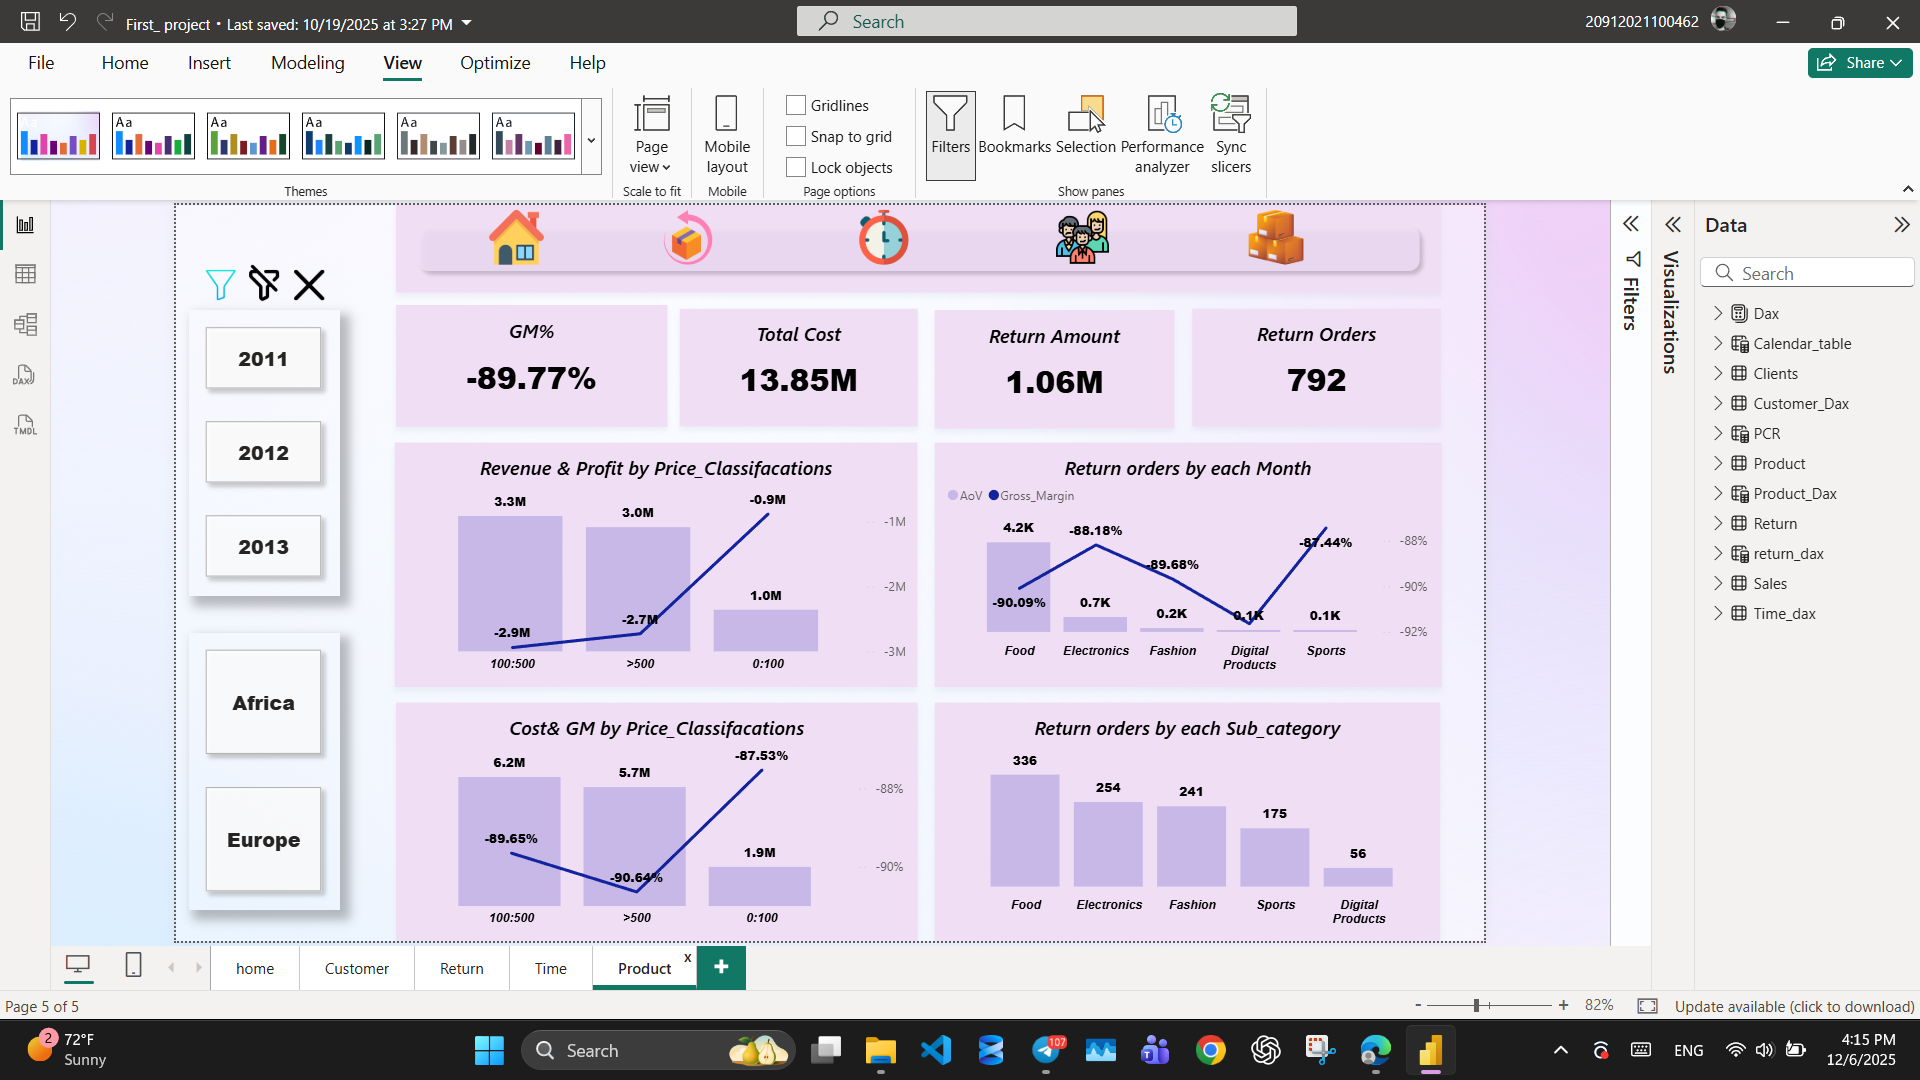

This screenshot's page, from the dashboard's own definition file:
{"tool":"powerbi","page":{"name":"Product","canvas":[1280,720],"ordinal":4},"visuals":[{"type":"shape","box":[215.2,0,1022.3,85.6],"z":2000},{"type":"image","title":"Clear Filter","box":[58.7,53.8,55,48.9],"z":2500},{"type":"image","title":"Cancel","box":[100.3,58.7,59.9,39.1],"z":3000},{"type":"image","title":"Filter","box":[12.2,58.7,63.6,39.1],"z":5000},{"type":"image","box":[275.6,0,116.7,63.3],"z":6000},{"type":"image","box":[814.4,0,145.5,63.6],"z":7000},{"type":"image","box":[624.4,0,135.3,63.3],"z":8000},{"type":"image","box":[439,0,124.7,63.6],"z":9000},{"type":"image","box":[1015.4,0,122.9,63.3],"z":10000},{"type":"card","title":"GM%","fields":{"Values":["Dax.Gross_Margin"]},"box":[215.8,98.1,265.5,119],"z":11000},{"type":"card","title":"Total Cost","fields":{"Values":["Dax.total_cost"]},"box":[493,102,232.8,115.1],"z":12000},{"type":"card","title":"Return Amount","fields":{"Values":["return_dax.return_amout"]},"box":[742.8,103.3,234.1,116.4],"z":13000},{"type":"card","title":"Return Orders","fields":{"Values":["return_dax.return_orders"]},"box":[994.2,101.5,243.3,114.9],"z":14000},{"type":"clusteredColumnChart","title":"Return orders by each Sub_category","fields":{"Category":["Product.CategoryName"],"Y":["return_dax.return_orders"]},"box":[742.8,486.5,494.3,234.1],"z":15000},{"type":"lineClusteredColumnComboChart","title":"Return orders by each Month","fields":{"Category":["Product.CategoryName"],"Y":["Customer_Dax.AoV"],"Y2":["Dax.Gross_Margin"]},"box":[742.8,232.8,495.6,239.3],"z":16000},{"type":"lineClusteredColumnComboChart","title":"Revenue & Profit by Price_Classifacations","fields":{"Category":["Sales.Price_Classifacations"],"Y":["Dax.total _revenue"],"Y2":["Dax.total_profit"]},"box":[214.5,232.8,511.3,239.3],"z":17000},{"type":"lineClusteredColumnComboChart","title":"Cost& GM by Price_Classifacations","fields":{"Category":["Sales.Price_Classifacations"],"Y":["Dax.total_cost"],"Y2":["Dax.Gross_Margin"]},"box":[215.8,486.5,510,234.1],"z":18000},{"type":"advancedSlicerVisual","fields":{"Values":["Clients.Continent"]},"box":[12.2,418.2,148,271.5],"z":22500},{"type":"advancedSlicerVisual","fields":{"Values":["Calendar_table.year"]},"box":[12.2,102.7,148,280],"z":23000}]}

Visuals, with their boxes on the page's 1280x720 design canvas (x1, y1, x2, y2). These are canvas units, not pixel positions in the 1920x1080 screenshot, which may show the page scaled, cropped or inside an application window:
shape: {"left": 215, "top": 0, "right": 1238, "bottom": 86}
"Clear Filter" image: {"left": 59, "top": 54, "right": 114, "bottom": 103}
"Cancel" image: {"left": 100, "top": 59, "right": 160, "bottom": 98}
"Filter" image: {"left": 12, "top": 59, "right": 76, "bottom": 98}
image: {"left": 276, "top": 0, "right": 392, "bottom": 63}
image: {"left": 814, "top": 0, "right": 960, "bottom": 64}
image: {"left": 624, "top": 0, "right": 760, "bottom": 63}
image: {"left": 439, "top": 0, "right": 564, "bottom": 64}
image: {"left": 1015, "top": 0, "right": 1138, "bottom": 63}
"GM%" card: {"left": 216, "top": 98, "right": 481, "bottom": 217}
"Total Cost" card: {"left": 493, "top": 102, "right": 726, "bottom": 217}
"Return Amount" card: {"left": 743, "top": 103, "right": 977, "bottom": 220}
"Return Orders" card: {"left": 994, "top": 102, "right": 1238, "bottom": 216}
"Return orders by each Sub_category" clusteredColumnChart: {"left": 743, "top": 486, "right": 1237, "bottom": 721}
"Return orders by each Month" lineClusteredColumnComboChart: {"left": 743, "top": 233, "right": 1238, "bottom": 472}
"Revenue & Profit by Price_Classifacations" lineClusteredColumnComboChart: {"left": 214, "top": 233, "right": 726, "bottom": 472}
"Cost& GM by Price_Classifacations" lineClusteredColumnComboChart: {"left": 216, "top": 486, "right": 726, "bottom": 721}
advancedSlicerVisual - Clients.Continent: {"left": 12, "top": 418, "right": 160, "bottom": 690}
advancedSlicerVisual - Calendar_table.year: {"left": 12, "top": 103, "right": 160, "bottom": 383}
